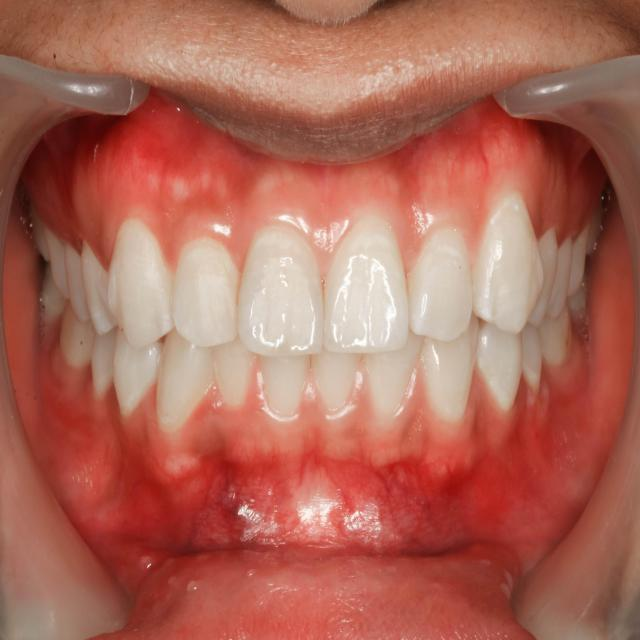Tooth: (323, 215, 408, 353), (237, 225, 324, 357), (472, 192, 543, 334), (106, 219, 175, 351), (407, 227, 473, 343), (172, 235, 239, 347), (422, 311, 479, 420), (156, 328, 214, 432), (363, 328, 424, 414), (113, 327, 165, 418), (478, 322, 523, 410), (80, 237, 117, 334), (210, 336, 258, 405), (311, 346, 362, 410), (527, 227, 559, 327), (259, 355, 310, 414), (60, 298, 96, 368), (544, 237, 573, 321), (64, 242, 91, 324), (44, 225, 70, 299), (91, 326, 117, 395), (522, 322, 542, 394)
